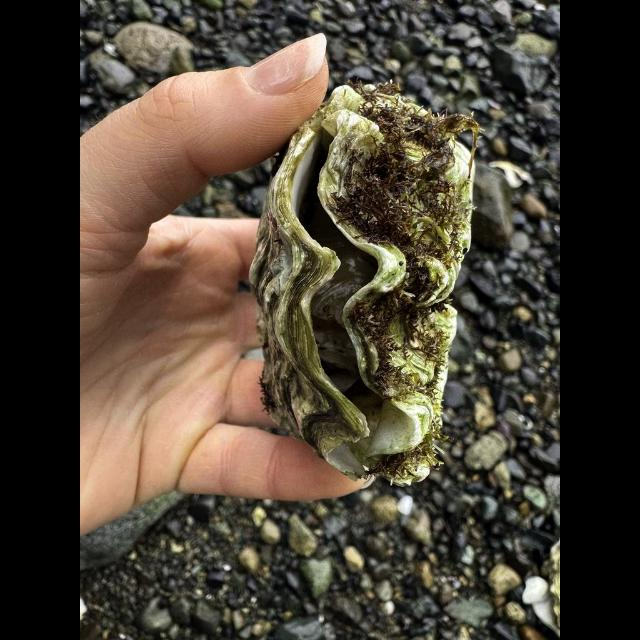Oyster-Open: (245, 76, 479, 490)
